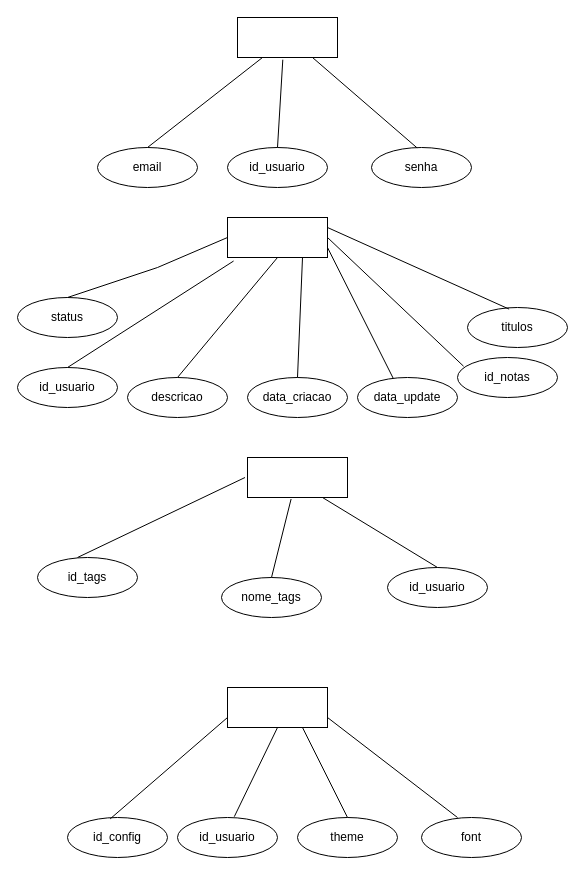
This 585x875 diagram has some shape labels left out. The box of each missing label's shape, as (x1, y1, x2, y2) in pixels:
notas: (226, 216, 328, 258)
settings: (226, 686, 328, 728)
tags: (246, 456, 348, 498)
usuario: (236, 16, 338, 58)
